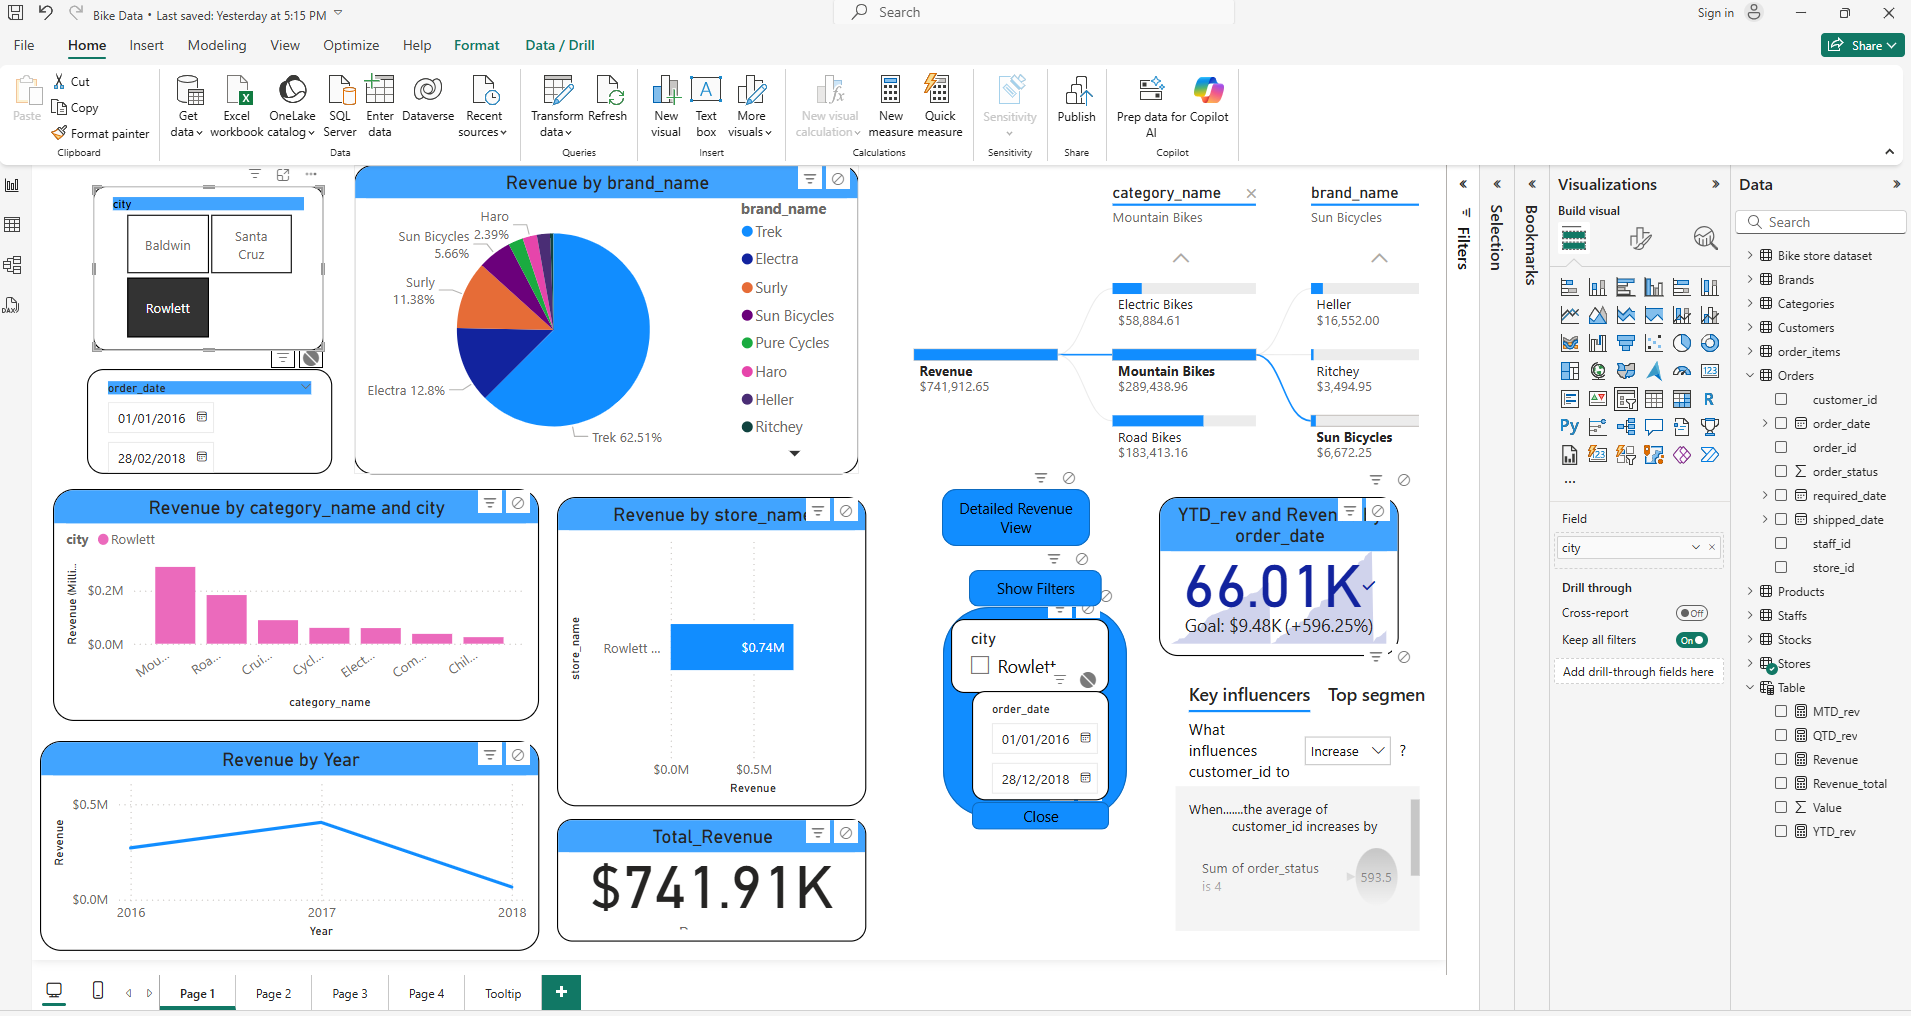

What the dashboard file says about the page in this screenshot:
{"tool":"powerbi","page":{"name":"Page 1","canvas":[1280,720],"ordinal":0},"visuals":[{"type":"shape","box":[824.7,399.7,166.6,190.1],"z":0,"group":"g1"},{"type":"barChart","fields":{"Category":["Stores.store_name"],"Y":["Table.Revenue"]},"box":[475.6,300.5,280.1,280.1],"z":0},{"type":"shape","box":[851.2,576.6,125.2,25.2],"z":500,"group":"g1"},{"type":"slicer","fields":{"Values":["Stores.city"]},"box":[832.4,410.5,143,67.1],"z":1000,"group":"g1"},{"type":"clusteredColumnChart","fields":{"Category":["Categories.category_name"],"Y":["Table.Revenue"],"Series":["Stores.city"]},"box":[19.5,293.7,439.6,210.1],"z":1000},{"type":"slicer","fields":{"Values":["Orders.order_date"]},"box":[850.9,475.7,124.5,99.2],"z":2000,"group":"g1"},{"type":"lineChart","fields":{"Y":["Table.Revenue"],"Category":["Orders.order_date.Variation.Date Hierarchy.Year","Orders.order_date.Variation.Date Hierarchy.Quarter","Orders.order_date.Variation.Date Hierarchy.Month","Orders.order_date.Variation.Date Hierarchy.Day"]},"box":[6.8,521.3,452.3,189.7],"z":2000},{"type":"pieChart","fields":{"Category":["Brands.brand_name"],"Y":["Table.Revenue"]},"box":[291.5,0,457.1,279.7],"z":3000},{"type":"slicer","fields":{"Values":["Stores.city"]},"box":[55.4,19.5,209.1,148.8],"z":4000},{"type":"slicer","fields":{"Values":["Orders.order_date"]},"box":[49.6,184.8,221.8,95.3],"z":5000},{"type":"card","title":"Total_Revenue","fields":{"Values":["Table.Revenue"]},"box":[475.6,592.3,280.1,110.9],"z":6000},{"type":"kpi","fields":{"Goal":["Table.Revenue"],"Indicator":["Table.YTD_rev"],"TrendLine":["Orders.order_date"]},"box":[1020.2,300.5,217.3,143.9],"z":7000},{"type":"shape","title":"Detailed Revenue View","box":[823.8,293.3,134,51.6],"z":8000},{"type":"group","id":"g1","title":"Group 1","box":[824.7,399.7,166.6,202.1],"z":10000},{"type":"shape","box":[847.9,366.4,121.1,33.3],"z":11000},{"type":"decompositionTreeVisual","fields":{"Analyze":["Table.Revenue"],"ExplainBy":["Categories.category_name","Brands.brand_name","Stores.city"]},"box":[768.5,0,492.4,272.5],"z":12000},{"type":"keyDriversVisual","fields":{"ExplainBy":["Sum(Orders.order_status)"],"Target":["Orders.customer_id"]},"box":[1030.2,455.3,230.8,242.6],"z":13000}]}

Visuals, with their boxes on the page's 1280x720 design canvas (x1, y1, x2, y2). These are canvas units, not pixel positions in the 1911x1016 screenshot, which may show the page scaled, cropped or inside an application window:
shape: bbox(825, 400, 991, 590)
barChart - Stores.store_name x Table.Revenue: bbox(476, 300, 756, 581)
shape: bbox(851, 577, 976, 602)
slicer - Stores.city: bbox(832, 410, 975, 478)
clusteredColumnChart - Categories.category_name x Table.Revenue: bbox(20, 294, 459, 504)
slicer - Orders.order_date: bbox(851, 476, 975, 575)
lineChart - Table.Revenue x Orders.order_date.Variation.Date Hierarchy.Year: bbox(7, 521, 459, 711)
pieChart - Brands.brand_name x Table.Revenue: bbox(292, 0, 749, 280)
slicer - Stores.city: bbox(55, 20, 264, 168)
slicer - Orders.order_date: bbox(50, 185, 271, 280)
"Total_Revenue" card: bbox(476, 592, 756, 703)
kpi - Table.Revenue x Table.YTD_rev: bbox(1020, 300, 1238, 444)
"Detailed Revenue View" shape: bbox(824, 293, 958, 345)
"Group 1" group: bbox(825, 400, 991, 602)
shape: bbox(848, 366, 969, 400)
decompositionTreeVisual - Table.Revenue x Categories.category_name: bbox(768, 0, 1261, 272)
keyDriversVisual - Sum(Orders.order_status) x Orders.customer_id: bbox(1030, 455, 1261, 698)
